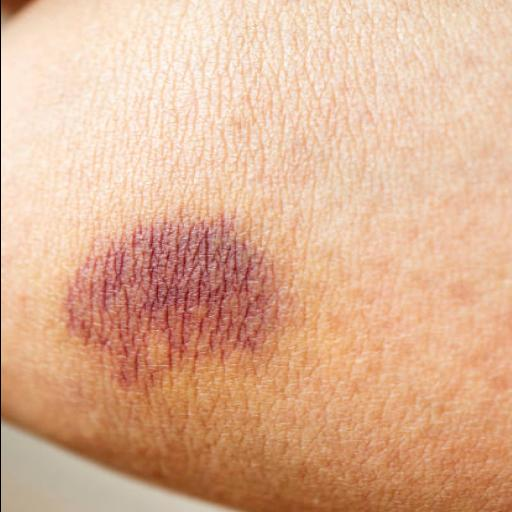bruises: (92, 258, 230, 332)
